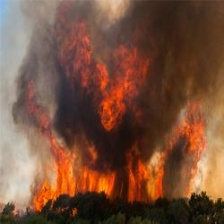fire: (72, 27, 205, 137), (29, 138, 202, 215)
smoke: (16, 4, 86, 128), (147, 6, 220, 120)
